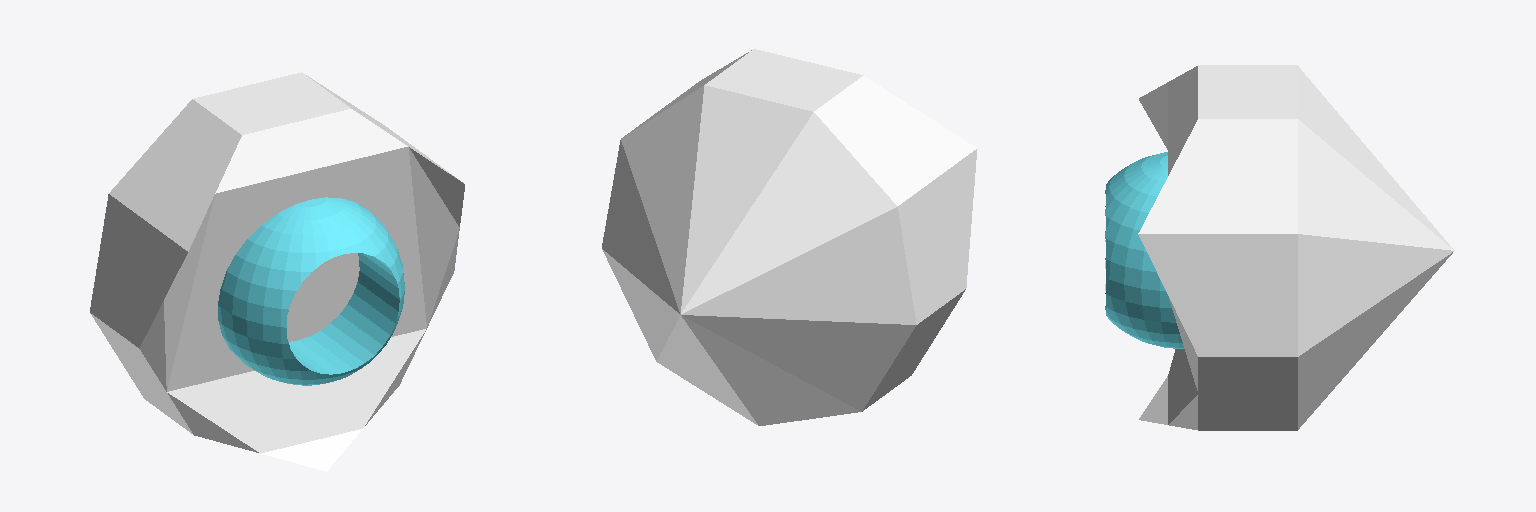
The picture shows the model from 3 angles: view 1: azimuth 30°, elevation 25°; view 2: azimuth 150°, elevation 25°; view 3: azimuth 270°, elevation 25°; orthographic projection.
Visible parts, largest first — view 1: 球; view 2: 球; view 3: 球.
Part boxes in pixels (bbox=[...]): 球: bbox=[90, 72, 464, 471]; 球: bbox=[602, 49, 976, 425]; 球: bbox=[1105, 65, 1454, 430].
Size of the model in its own units: 1.29 by 1.28 by 1.24.
Materials: 1 (1 with a texture image).